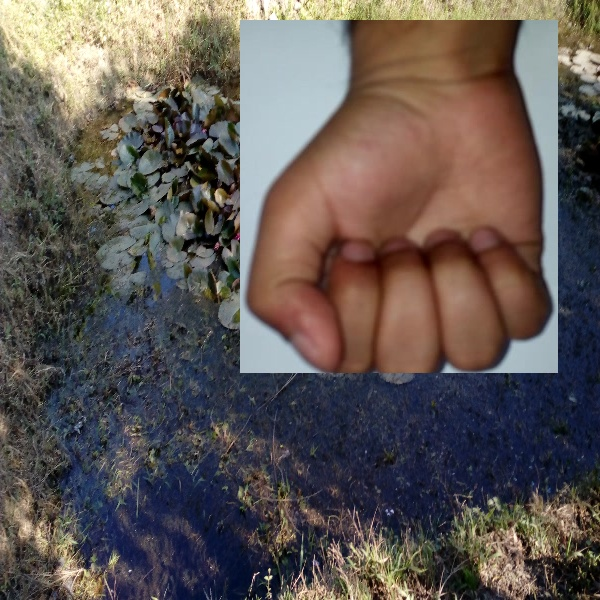A: (240, 20, 558, 373)
